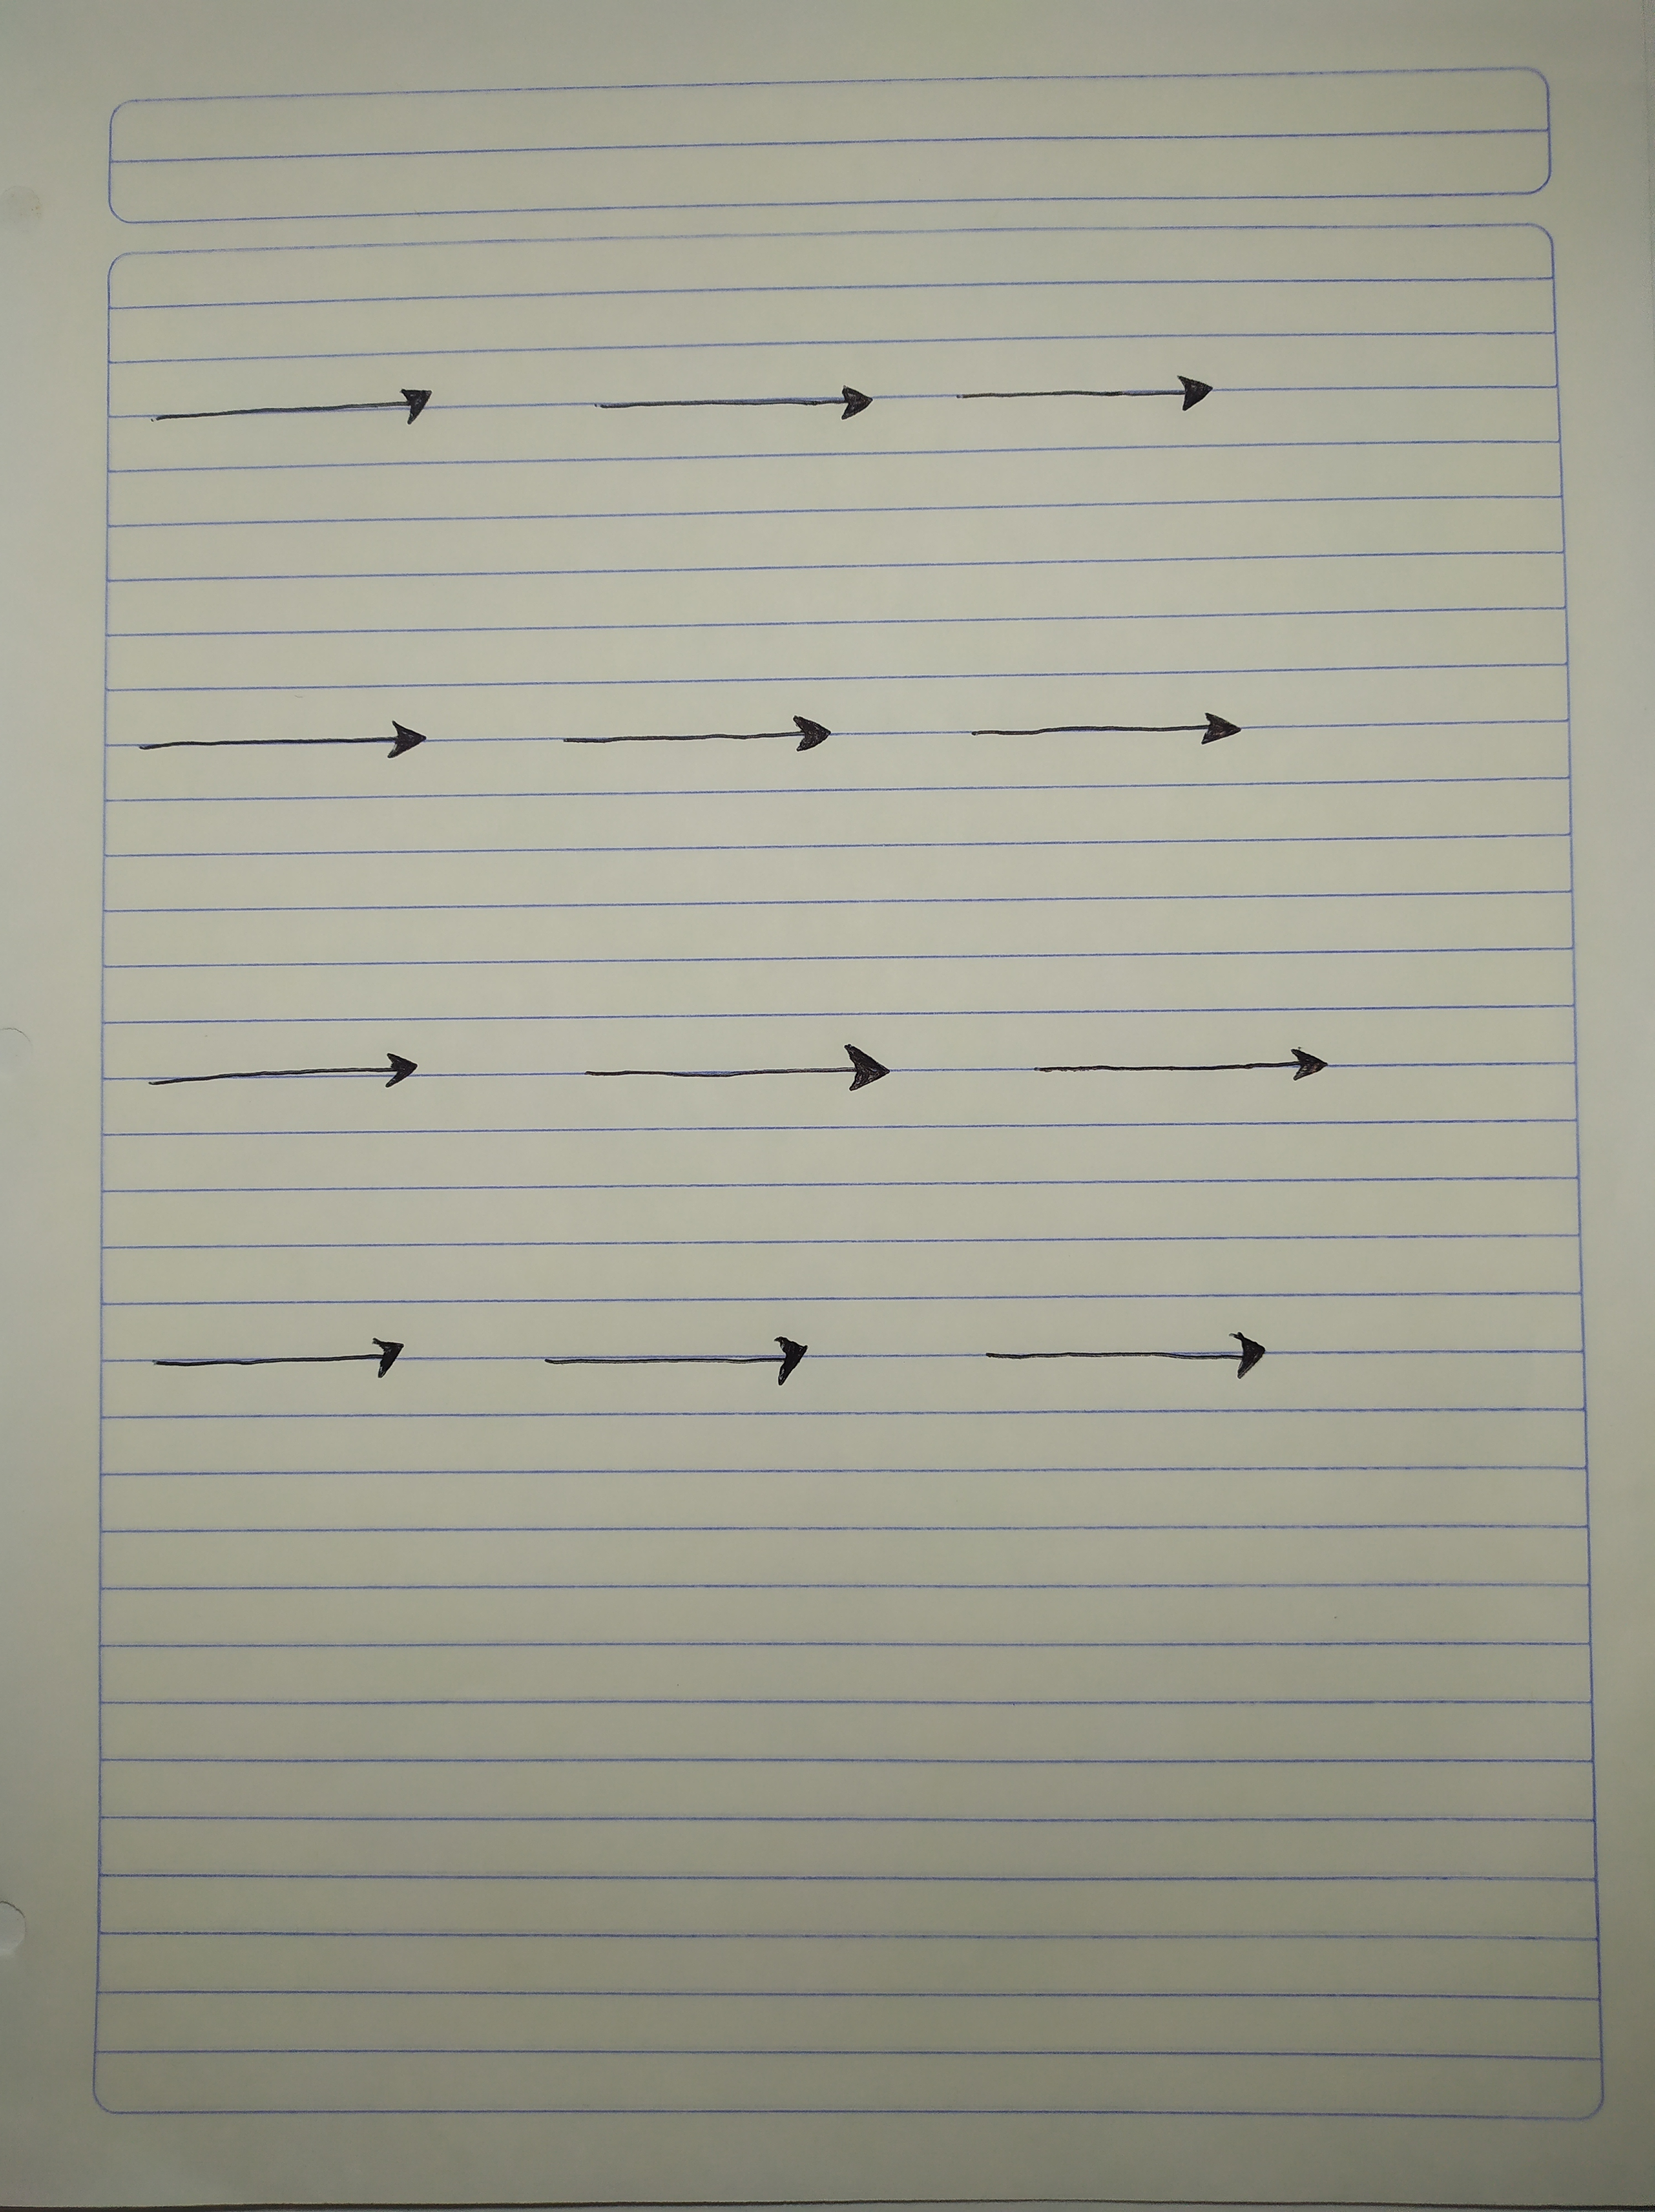arrow_line_right: (555, 1032, 932, 1126), (130, 1025, 445, 1124), (522, 693, 845, 785), (125, 367, 462, 454), (544, 368, 888, 452), (994, 1037, 1363, 1112), (923, 1321, 1332, 1387), (130, 705, 442, 791), (506, 1322, 831, 1402), (914, 367, 1257, 440), (946, 695, 1250, 775), (137, 1329, 428, 1401)
